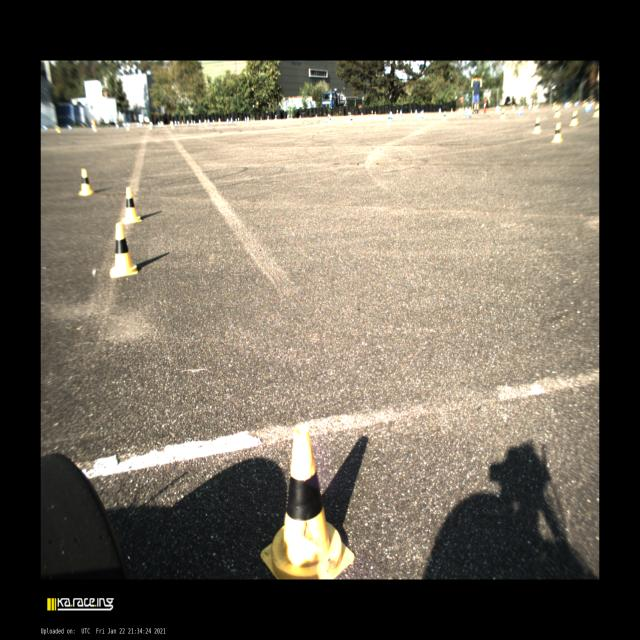yellow_cone: (262, 423, 354, 579), (110, 222, 138, 278), (122, 186, 142, 224), (78, 169, 93, 196), (551, 123, 562, 143), (532, 117, 541, 134), (569, 110, 578, 126)
